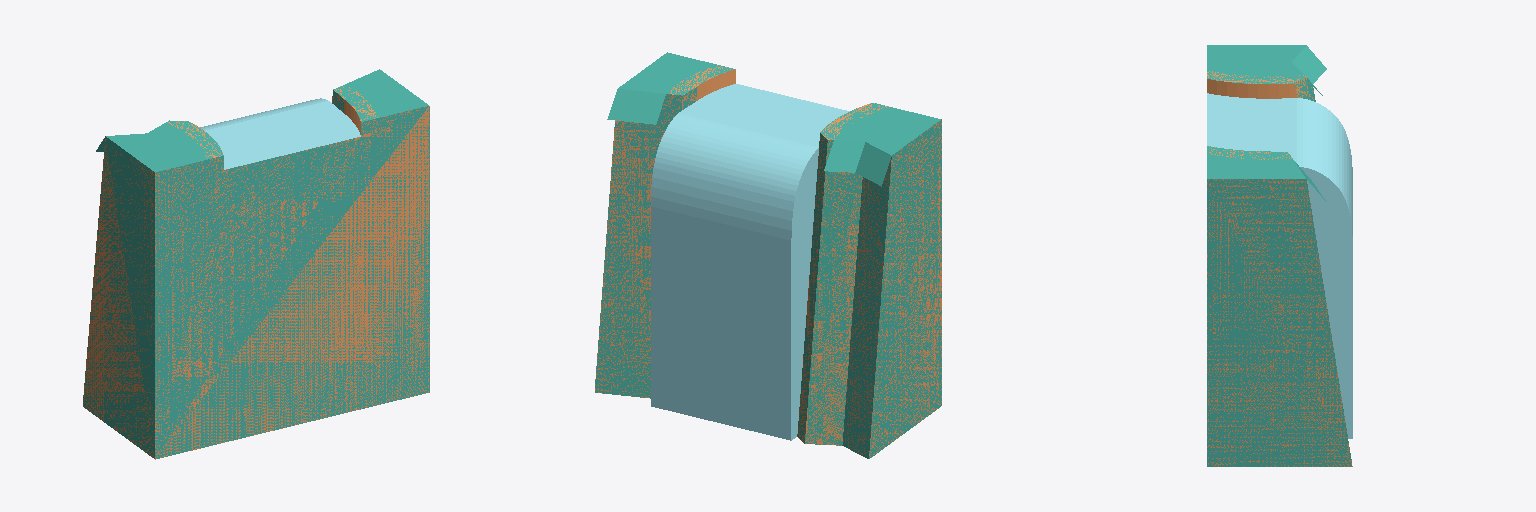
File: cliffBrown_waterfallTop.obj
3 views of the same model, side by side, from view 1: azimuth 30°, elevation 25°; view 2: azimuth 150°, elevation 25°; view 3: azimuth 270°, elevation 25° (orthographic).
Parts seen in each view (by area): view 1: cliffBrown_waterfallTop; view 2: cliffBrown_waterfallTop; view 3: cliffBrown_waterfallTop.
Boxes of the visible parts, x1=… form: cliffBrown_waterfallTop: x1=83, y1=69, x2=429, y2=459; cliffBrown_waterfallTop: x1=595, y1=52, x2=941, y2=458; cliffBrown_waterfallTop: x1=1207, y1=45, x2=1352, y2=466.
Size of the model in its own units: 10 by 10 by 4.58.